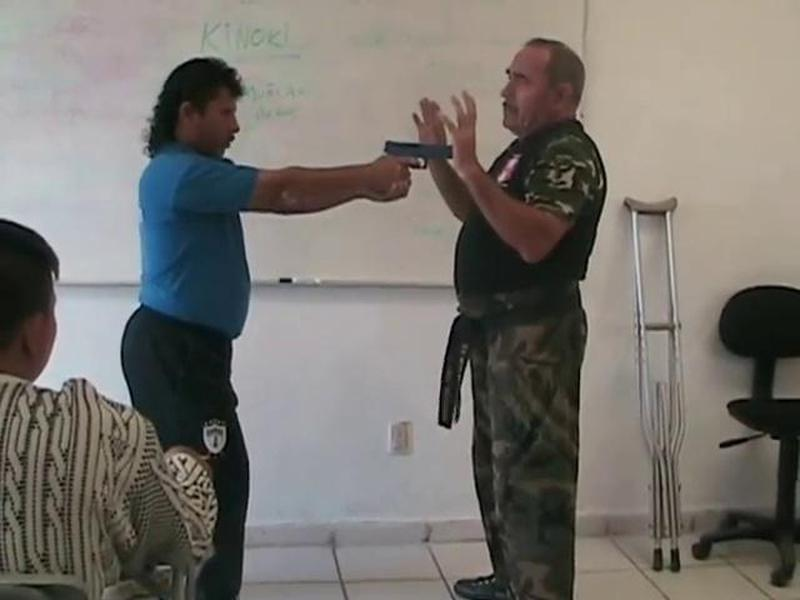Pistola: (376, 129, 465, 190)
